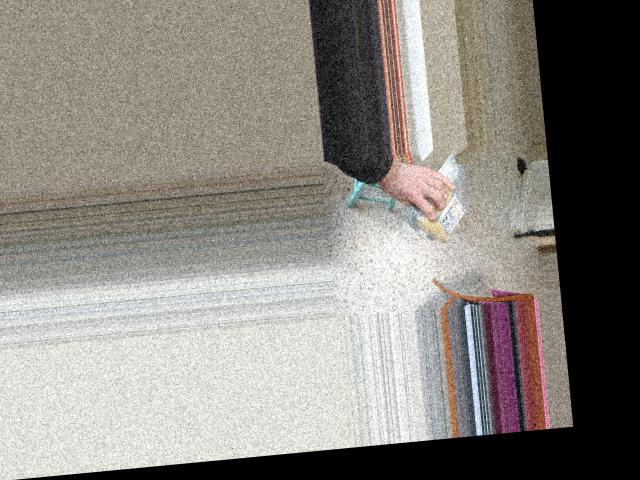cheese: (418, 152, 470, 254)
